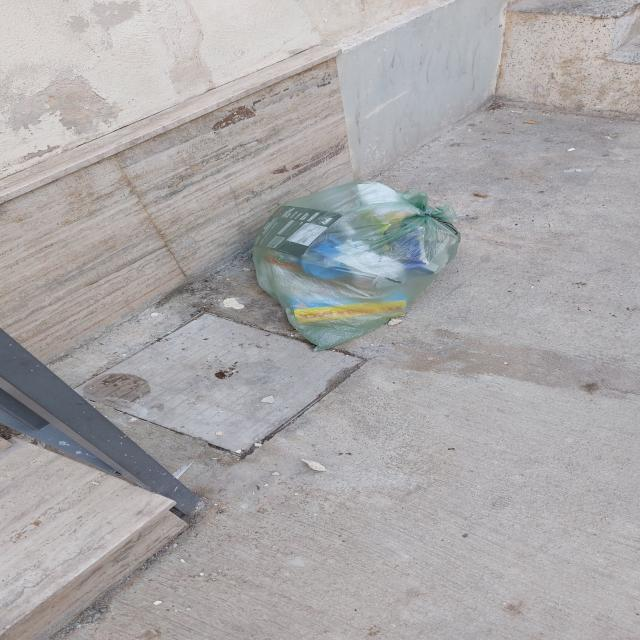Recycled Waste -Grey or Green Bag-: (240, 175, 479, 348)
